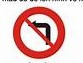No_turn_left: (11, 5, 67, 60)
